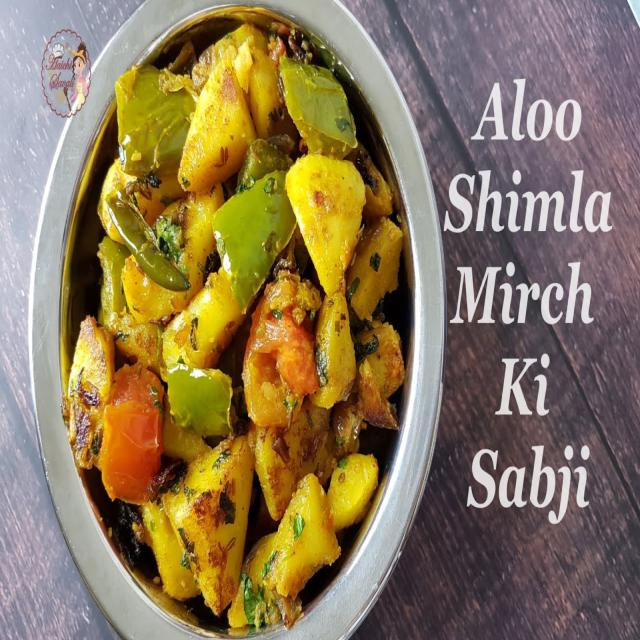aloo_matar: (75, 12, 418, 606)
